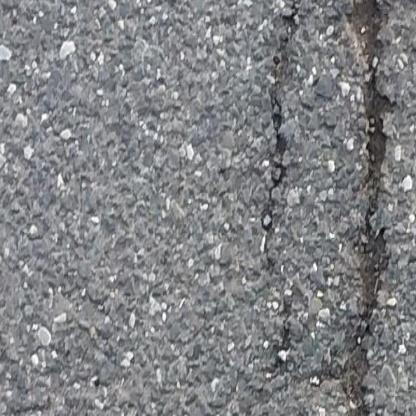Cracks: (340, 0, 395, 416), (264, 0, 302, 209), (261, 242, 295, 389)
